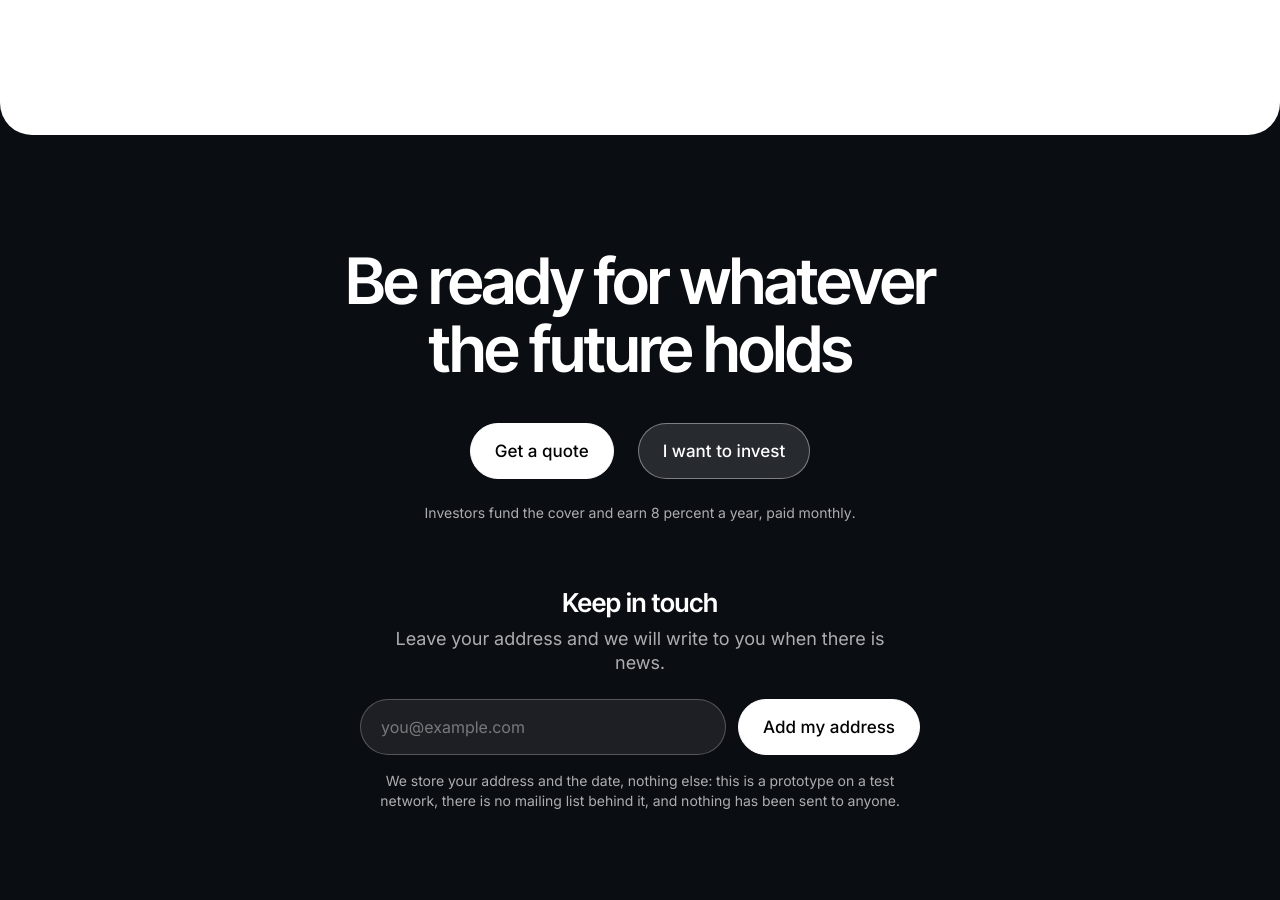
Test case: the quote starts in place › opens from any of the three places the deck puts the button
(page scrolled)
Click the button "Get a quote" at (542,451), box 470,423 -> 614,479
(page scrolled)
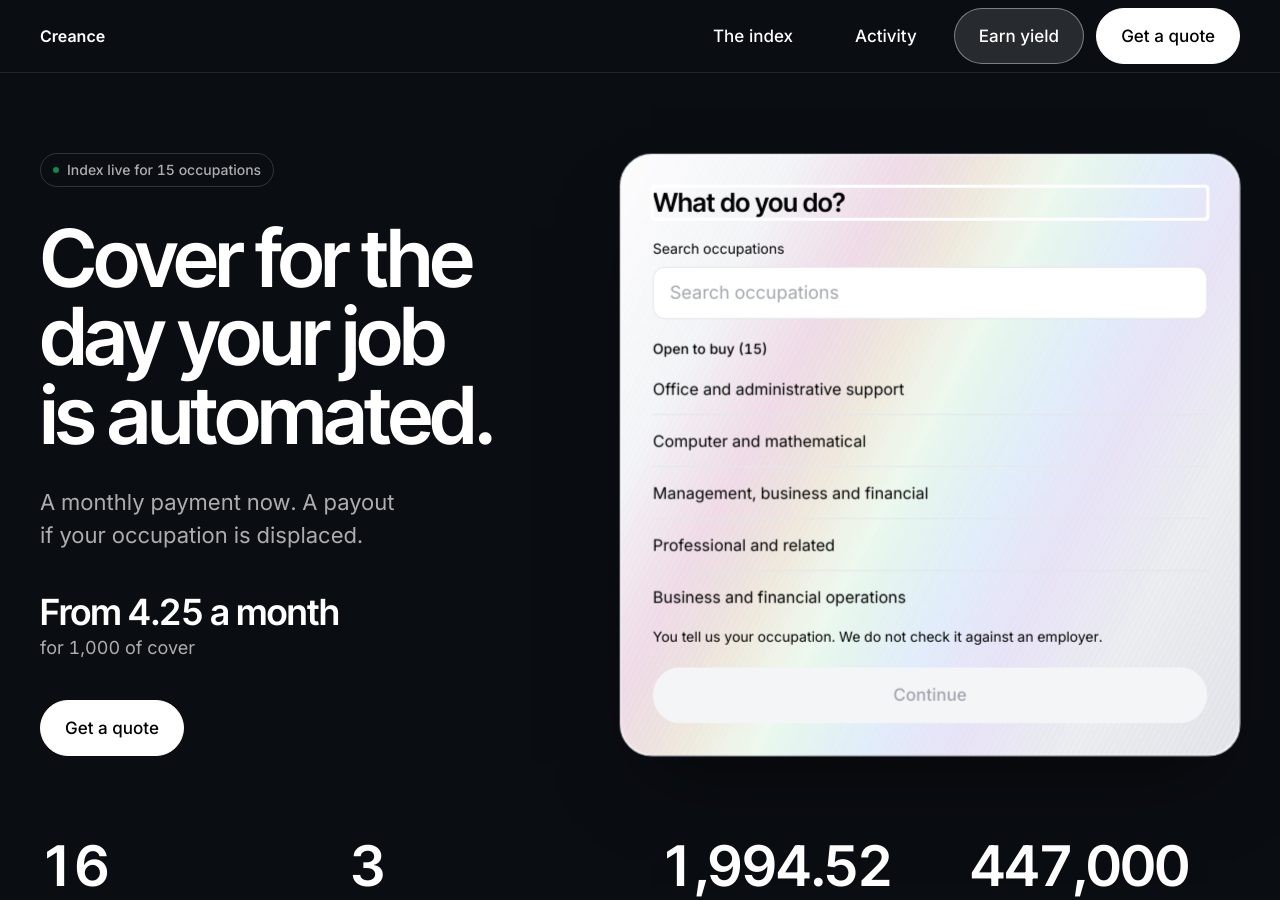
Now the heading "What do you do?" is shown, box 653,186 -> 845,217
